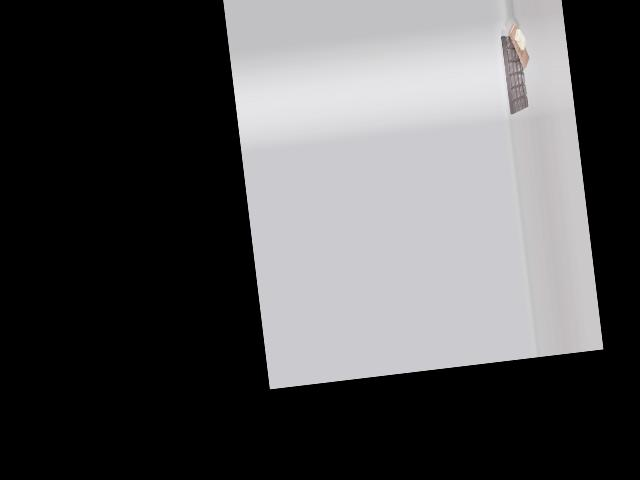chocolate: (497, 28, 532, 115)
